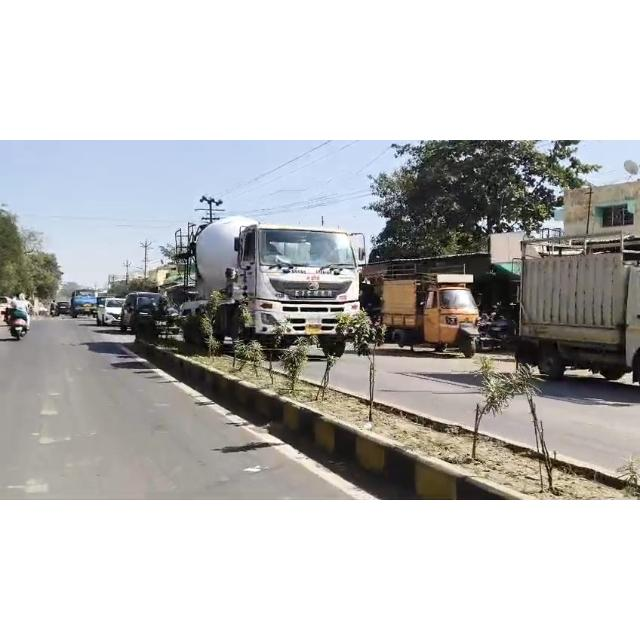car: (128, 295, 196, 339), (98, 299, 126, 325)
truck: (202, 220, 394, 373), (73, 290, 100, 318)
